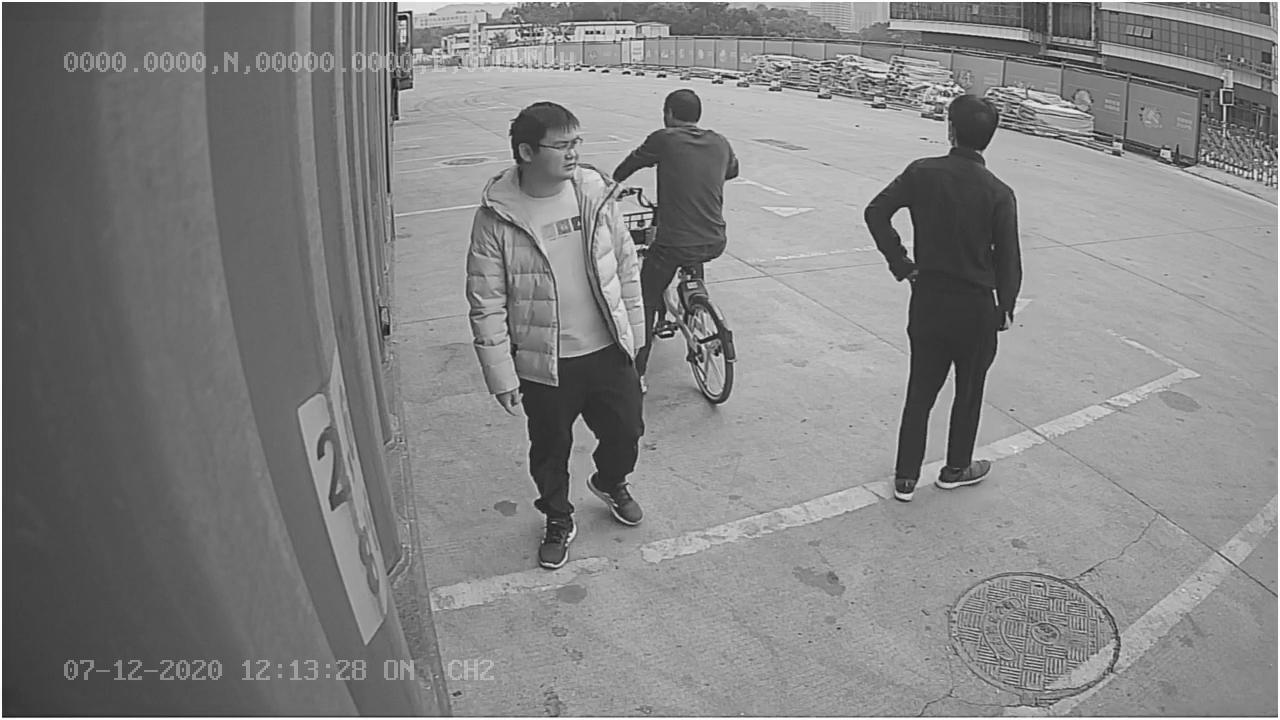person: (864, 85, 1026, 501)
